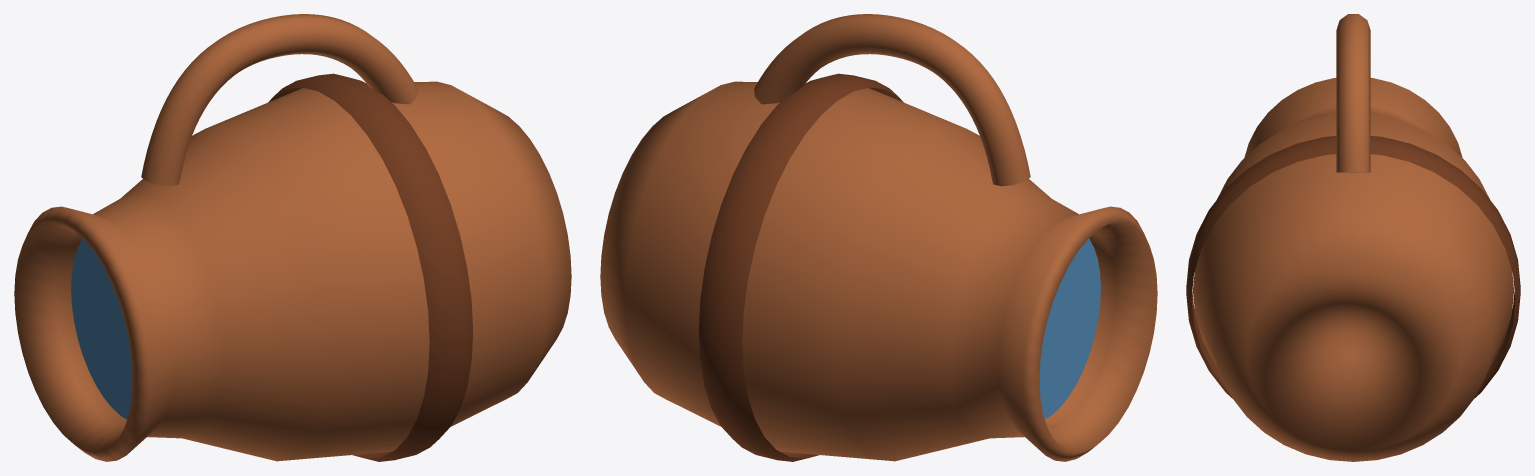
Rendered from krug.glb.
The picture shows the model from 3 angles, left to right: view 1: azimuth 30°, elevation 25°; view 2: azimuth 150°, elevation 25°; view 3: azimuth 270°, elevation 25°; orthographic projection. The views are drawn at different scales.
Visible parts, largest first — view 1: band; view 2: band; view 3: band.
Part boxes in pixels (x1=…): band: x1=14, y1=14, x2=571, y2=461; band: x1=600, y1=14, x2=1157, y2=461; band: x1=1186, y1=14, x2=1520, y2=461.
Size of the model in its own units: 0.2 by 0.1956 by 0.156.
